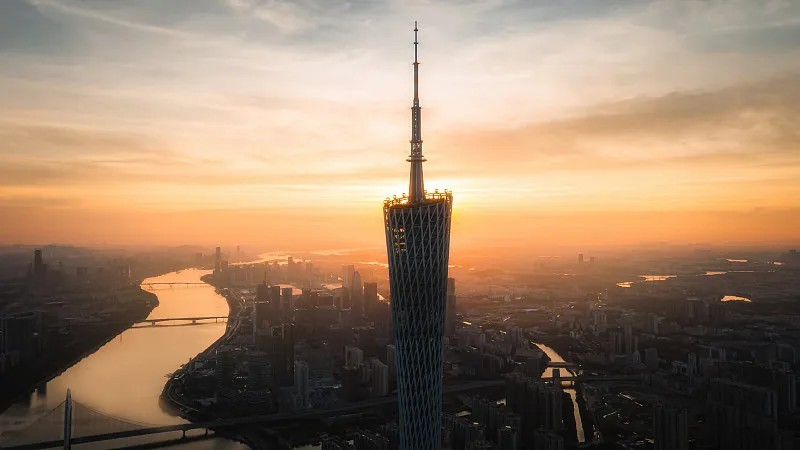Canton: (382, 20, 453, 447)
